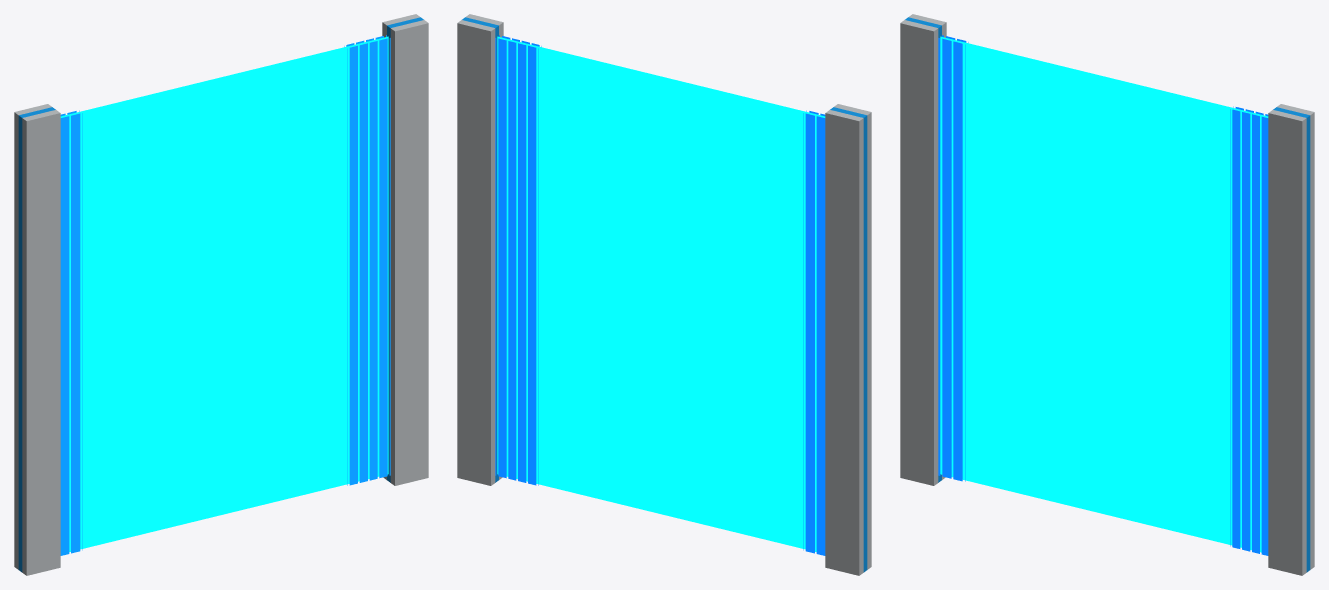
Rendered from obstacle_15_002.fbx.
3 renders of one model, left to right at view 1: azimuth 30°, elevation 25°; view 2: azimuth 150°, elevation 25°; view 3: azimuth 330°, elevation 25°, orthographic.
Parts seen in each view (by area): view 1: obstacle_15_002; view 2: obstacle_15_002; view 3: obstacle_15_002.
Boxes of the visible parts, bbox=[...] form: obstacle_15_002: bbox=[14, 14, 428, 575]; obstacle_15_002: bbox=[457, 14, 871, 575]; obstacle_15_002: bbox=[900, 14, 1314, 575].
Bounding box in the file's own units: 452 × 24.43 × 489.
